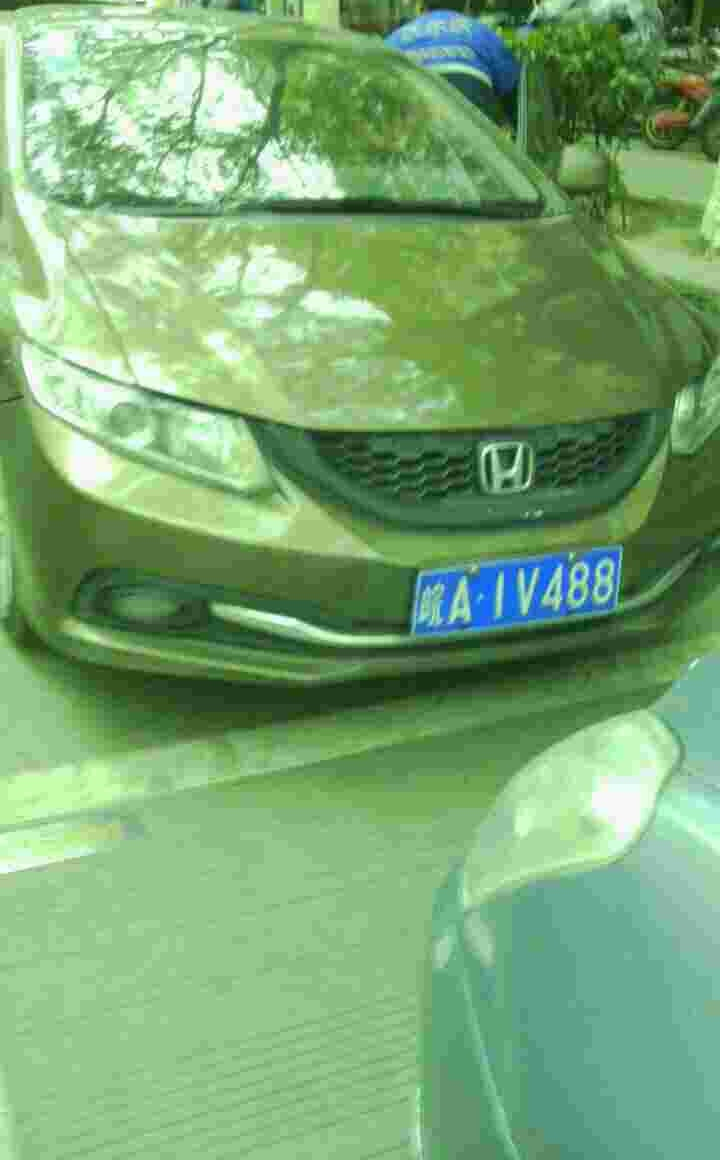license_plate: (408, 544, 638, 634)
